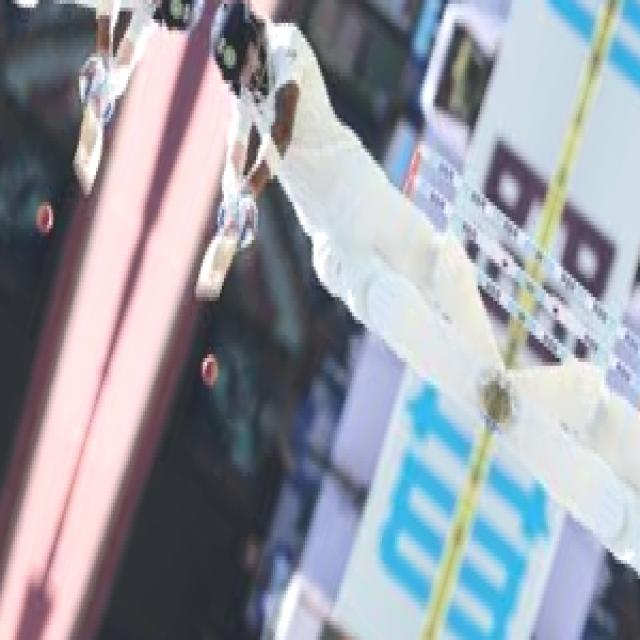toe: (191, 270, 222, 310)
